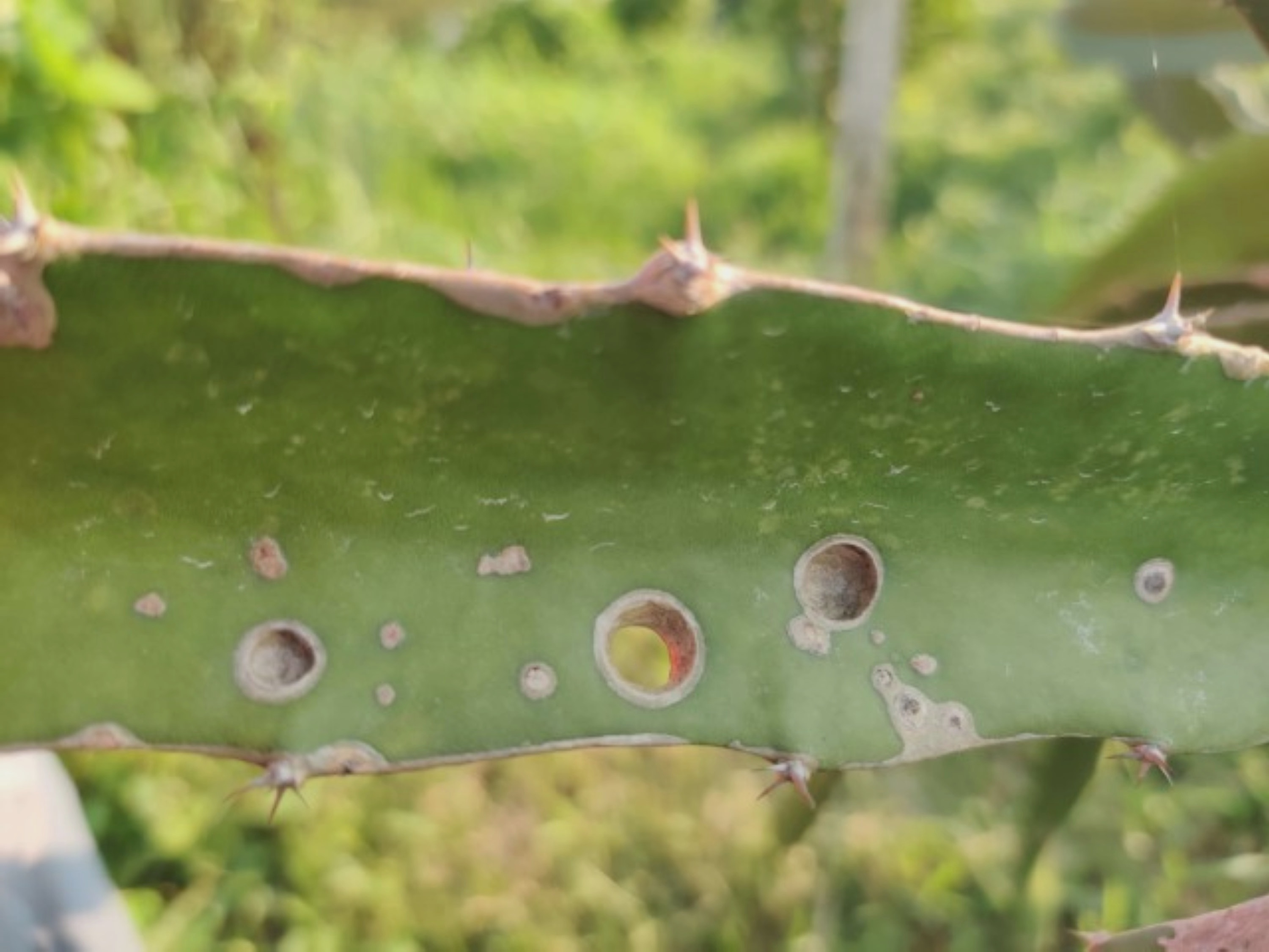stemcanker: (192, 436, 1193, 876)
